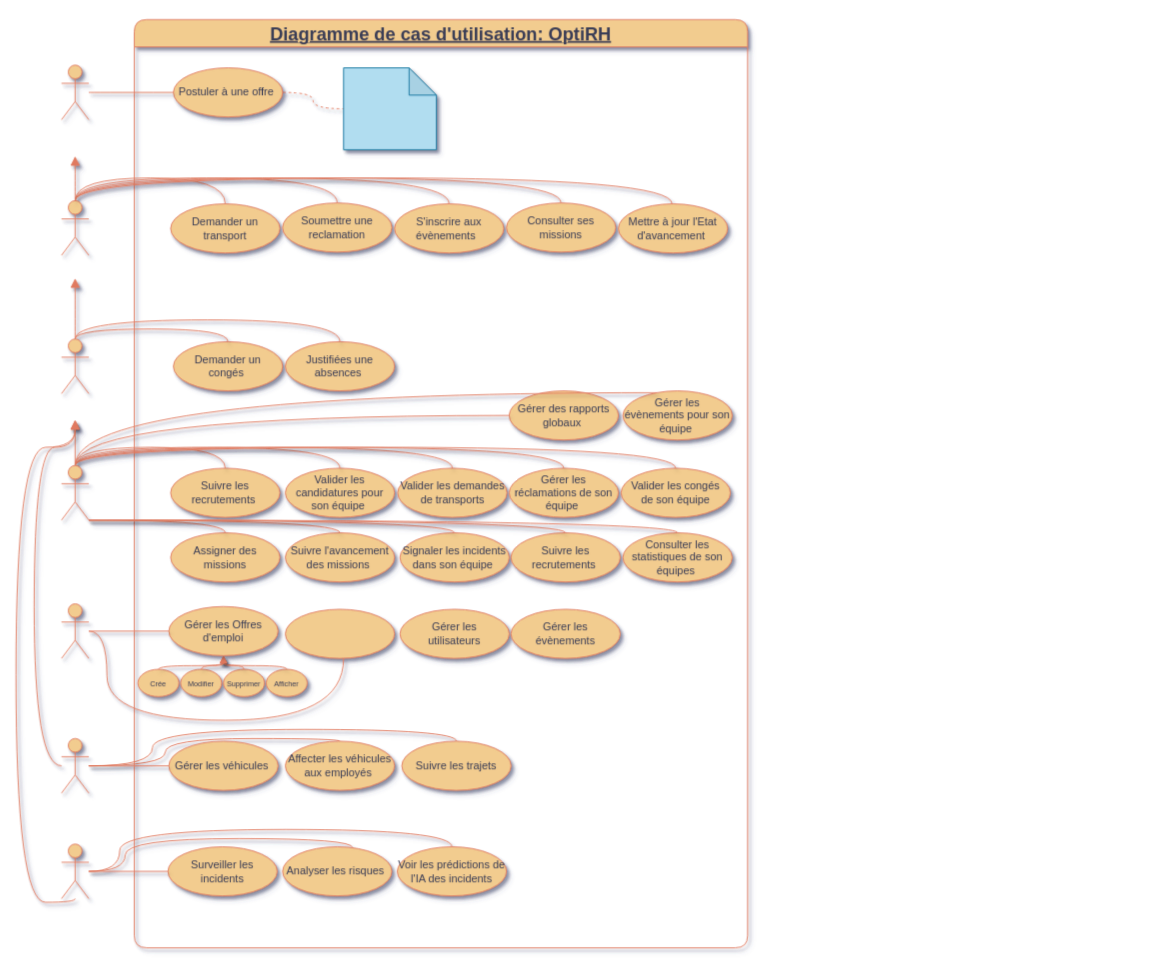
Image size: 1152x976. Some labels were removed from this diagram. The centre of each missing label's shape, as x and y in pixels:
Admin: (x=75, y=632)
Authentification non nécessaire: (x=390, y=109)
Candidat: (x=75, y=93)
Chef Projet: (x=75, y=493)
D. QHSE: (x=75, y=872)
Employe: (x=75, y=367)
Gestionnaire parc auto: (x=75, y=766)
Gérer les candidatures: (x=340, y=635)
Stagiaire: (x=75, y=229)
